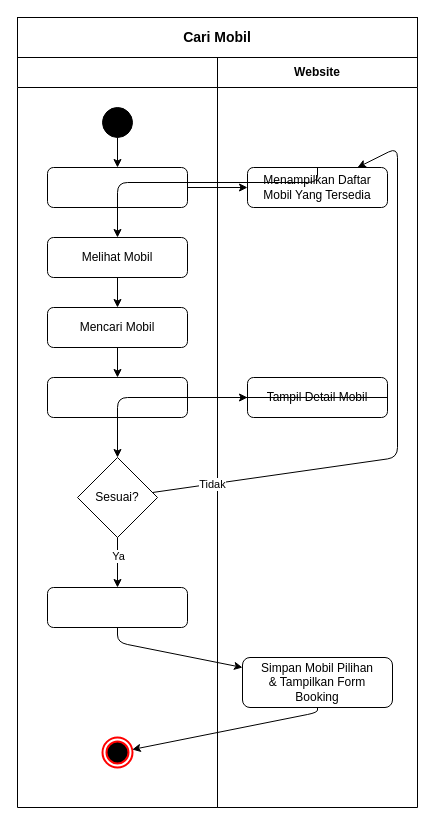
Image size: 435x825. Some labels were removed from this diagram. The shapes that lost their labels are listed below. From the top down, each one's box as (x1, y1, x2, y2) in pixels, then its label:
(46, 166, 188, 208): Mengakses Katalog Mobil
(46, 376, 188, 418): Klik Mobil
(16, 56, 218, 808): User
(46, 586, 188, 628): Klik Booking
